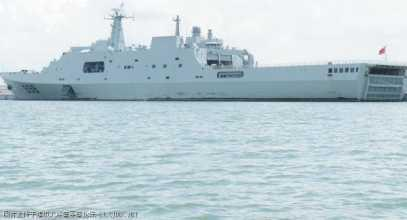warship: (2, 2, 407, 102)
